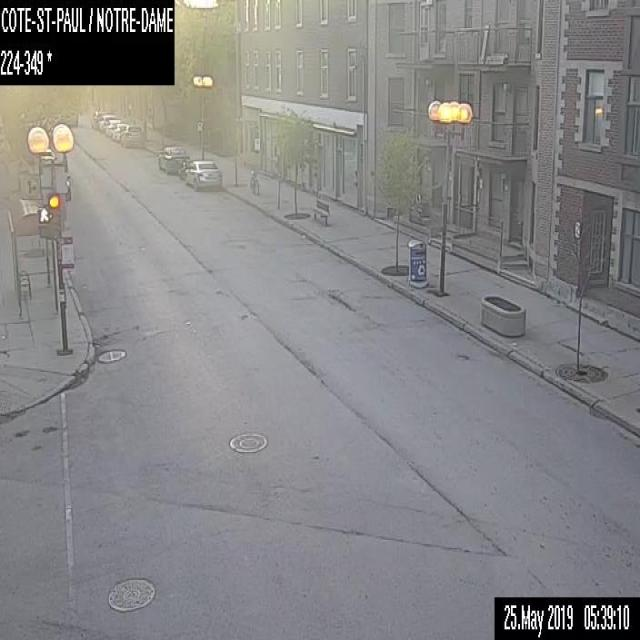vehicle: (184, 159, 222, 191), (157, 146, 189, 175), (119, 124, 143, 148), (103, 119, 120, 136), (111, 122, 127, 140), (98, 114, 115, 130), (178, 160, 188, 178)
